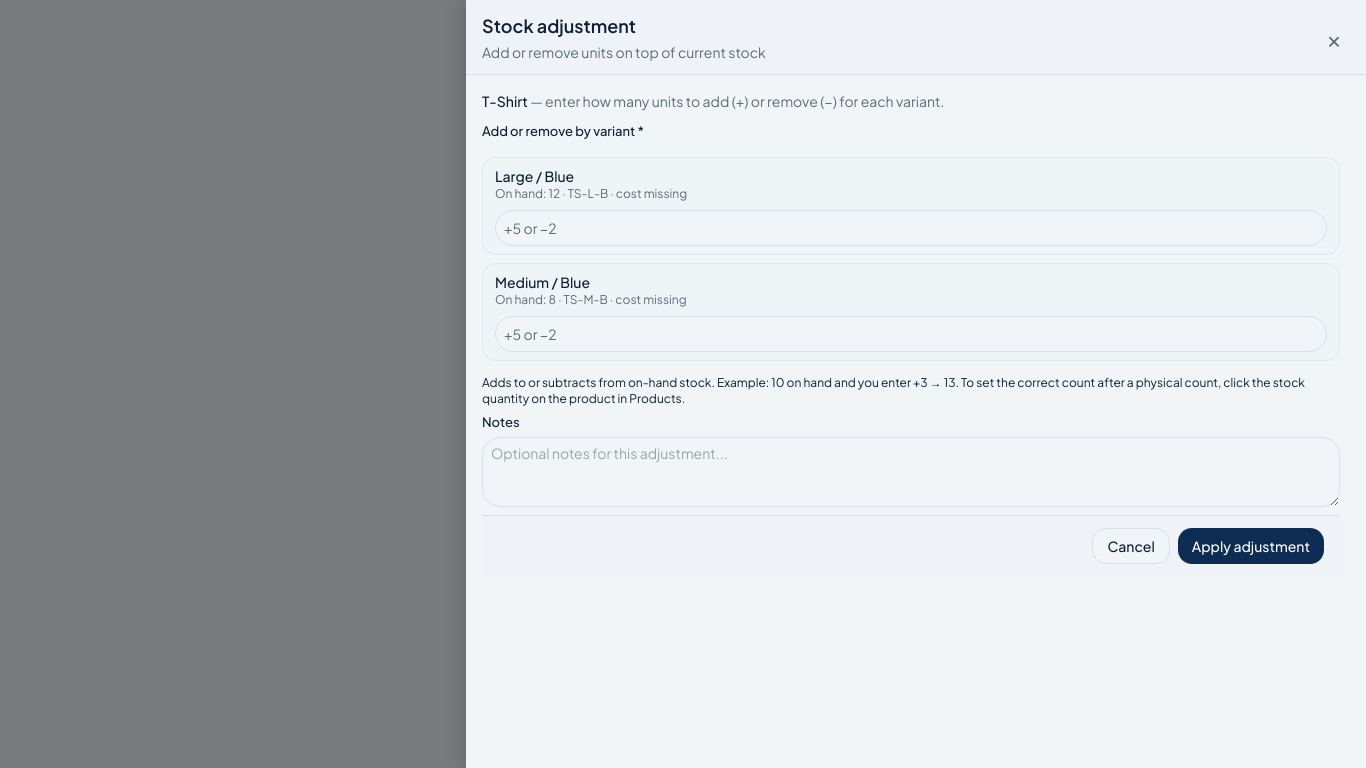
Scenario: StockAdjustmentModal › variant mode rejects non-numeric adjustment
The image size is (1366, 768).
Expected: the text "Large / Blue" is shown, [495,167,574,185]
Type "abc" into the field with placeholder "+5 or −2" below "12". click: (911, 228)
box: [495,210,1327,246]
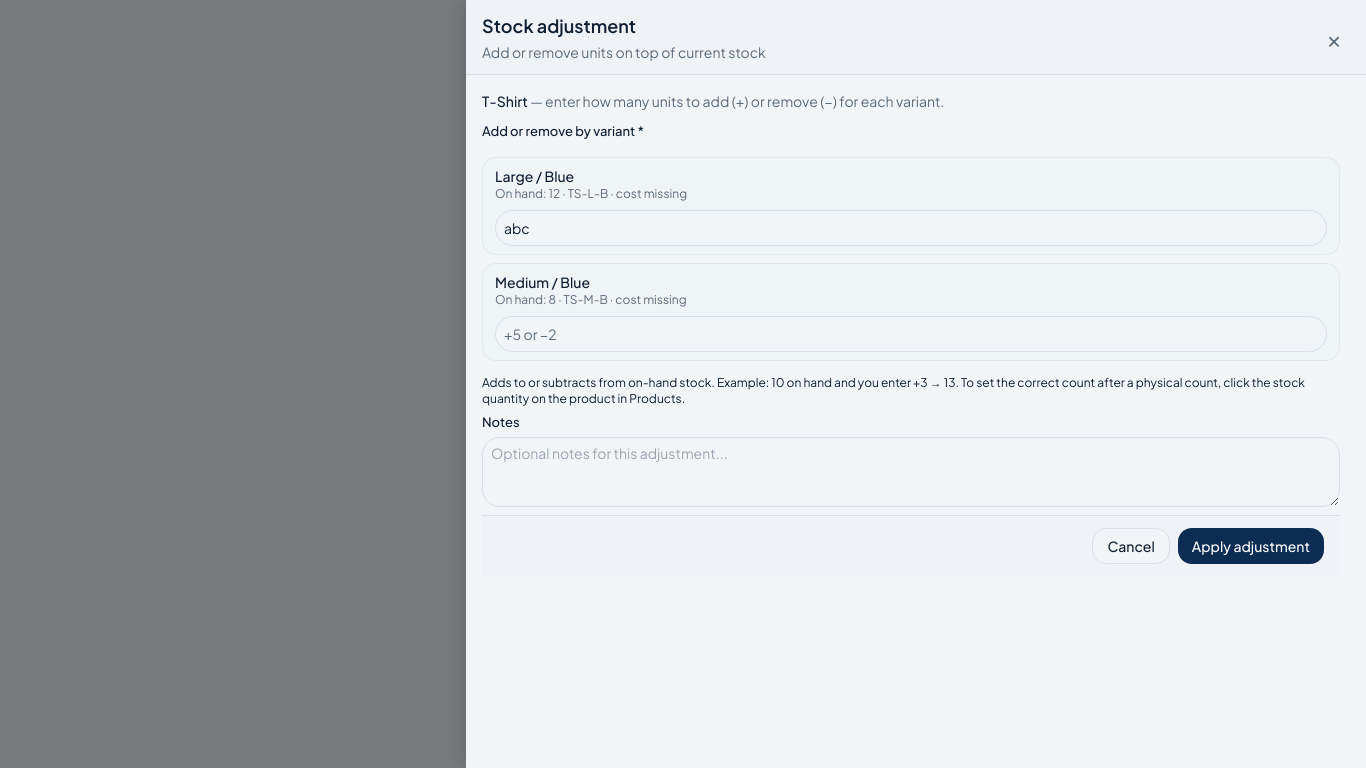
Click the button "Apply adjustment". click: (1251, 546)
box: [1178,528,1324,564]
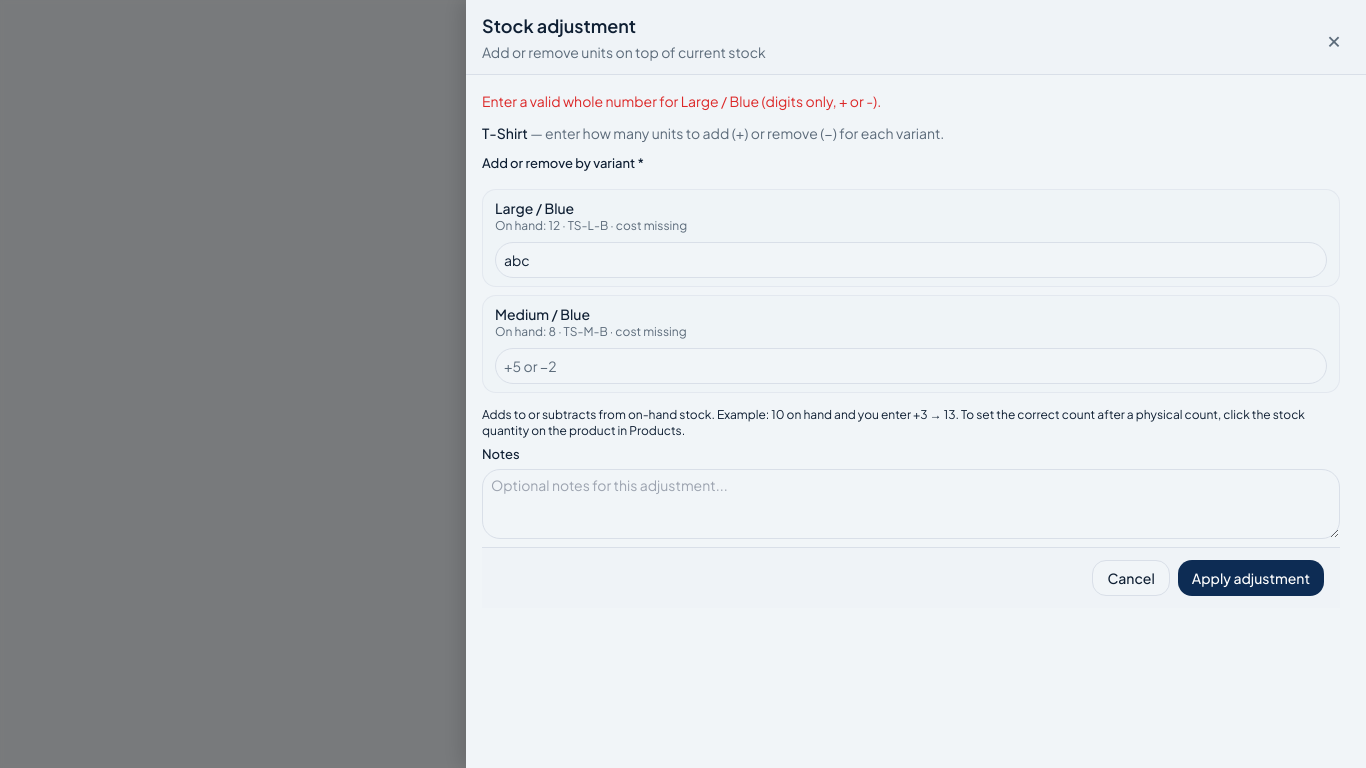
Result: the text "Enter a valid whole number for Large / Blue" is shown at [482,92,881,110]
